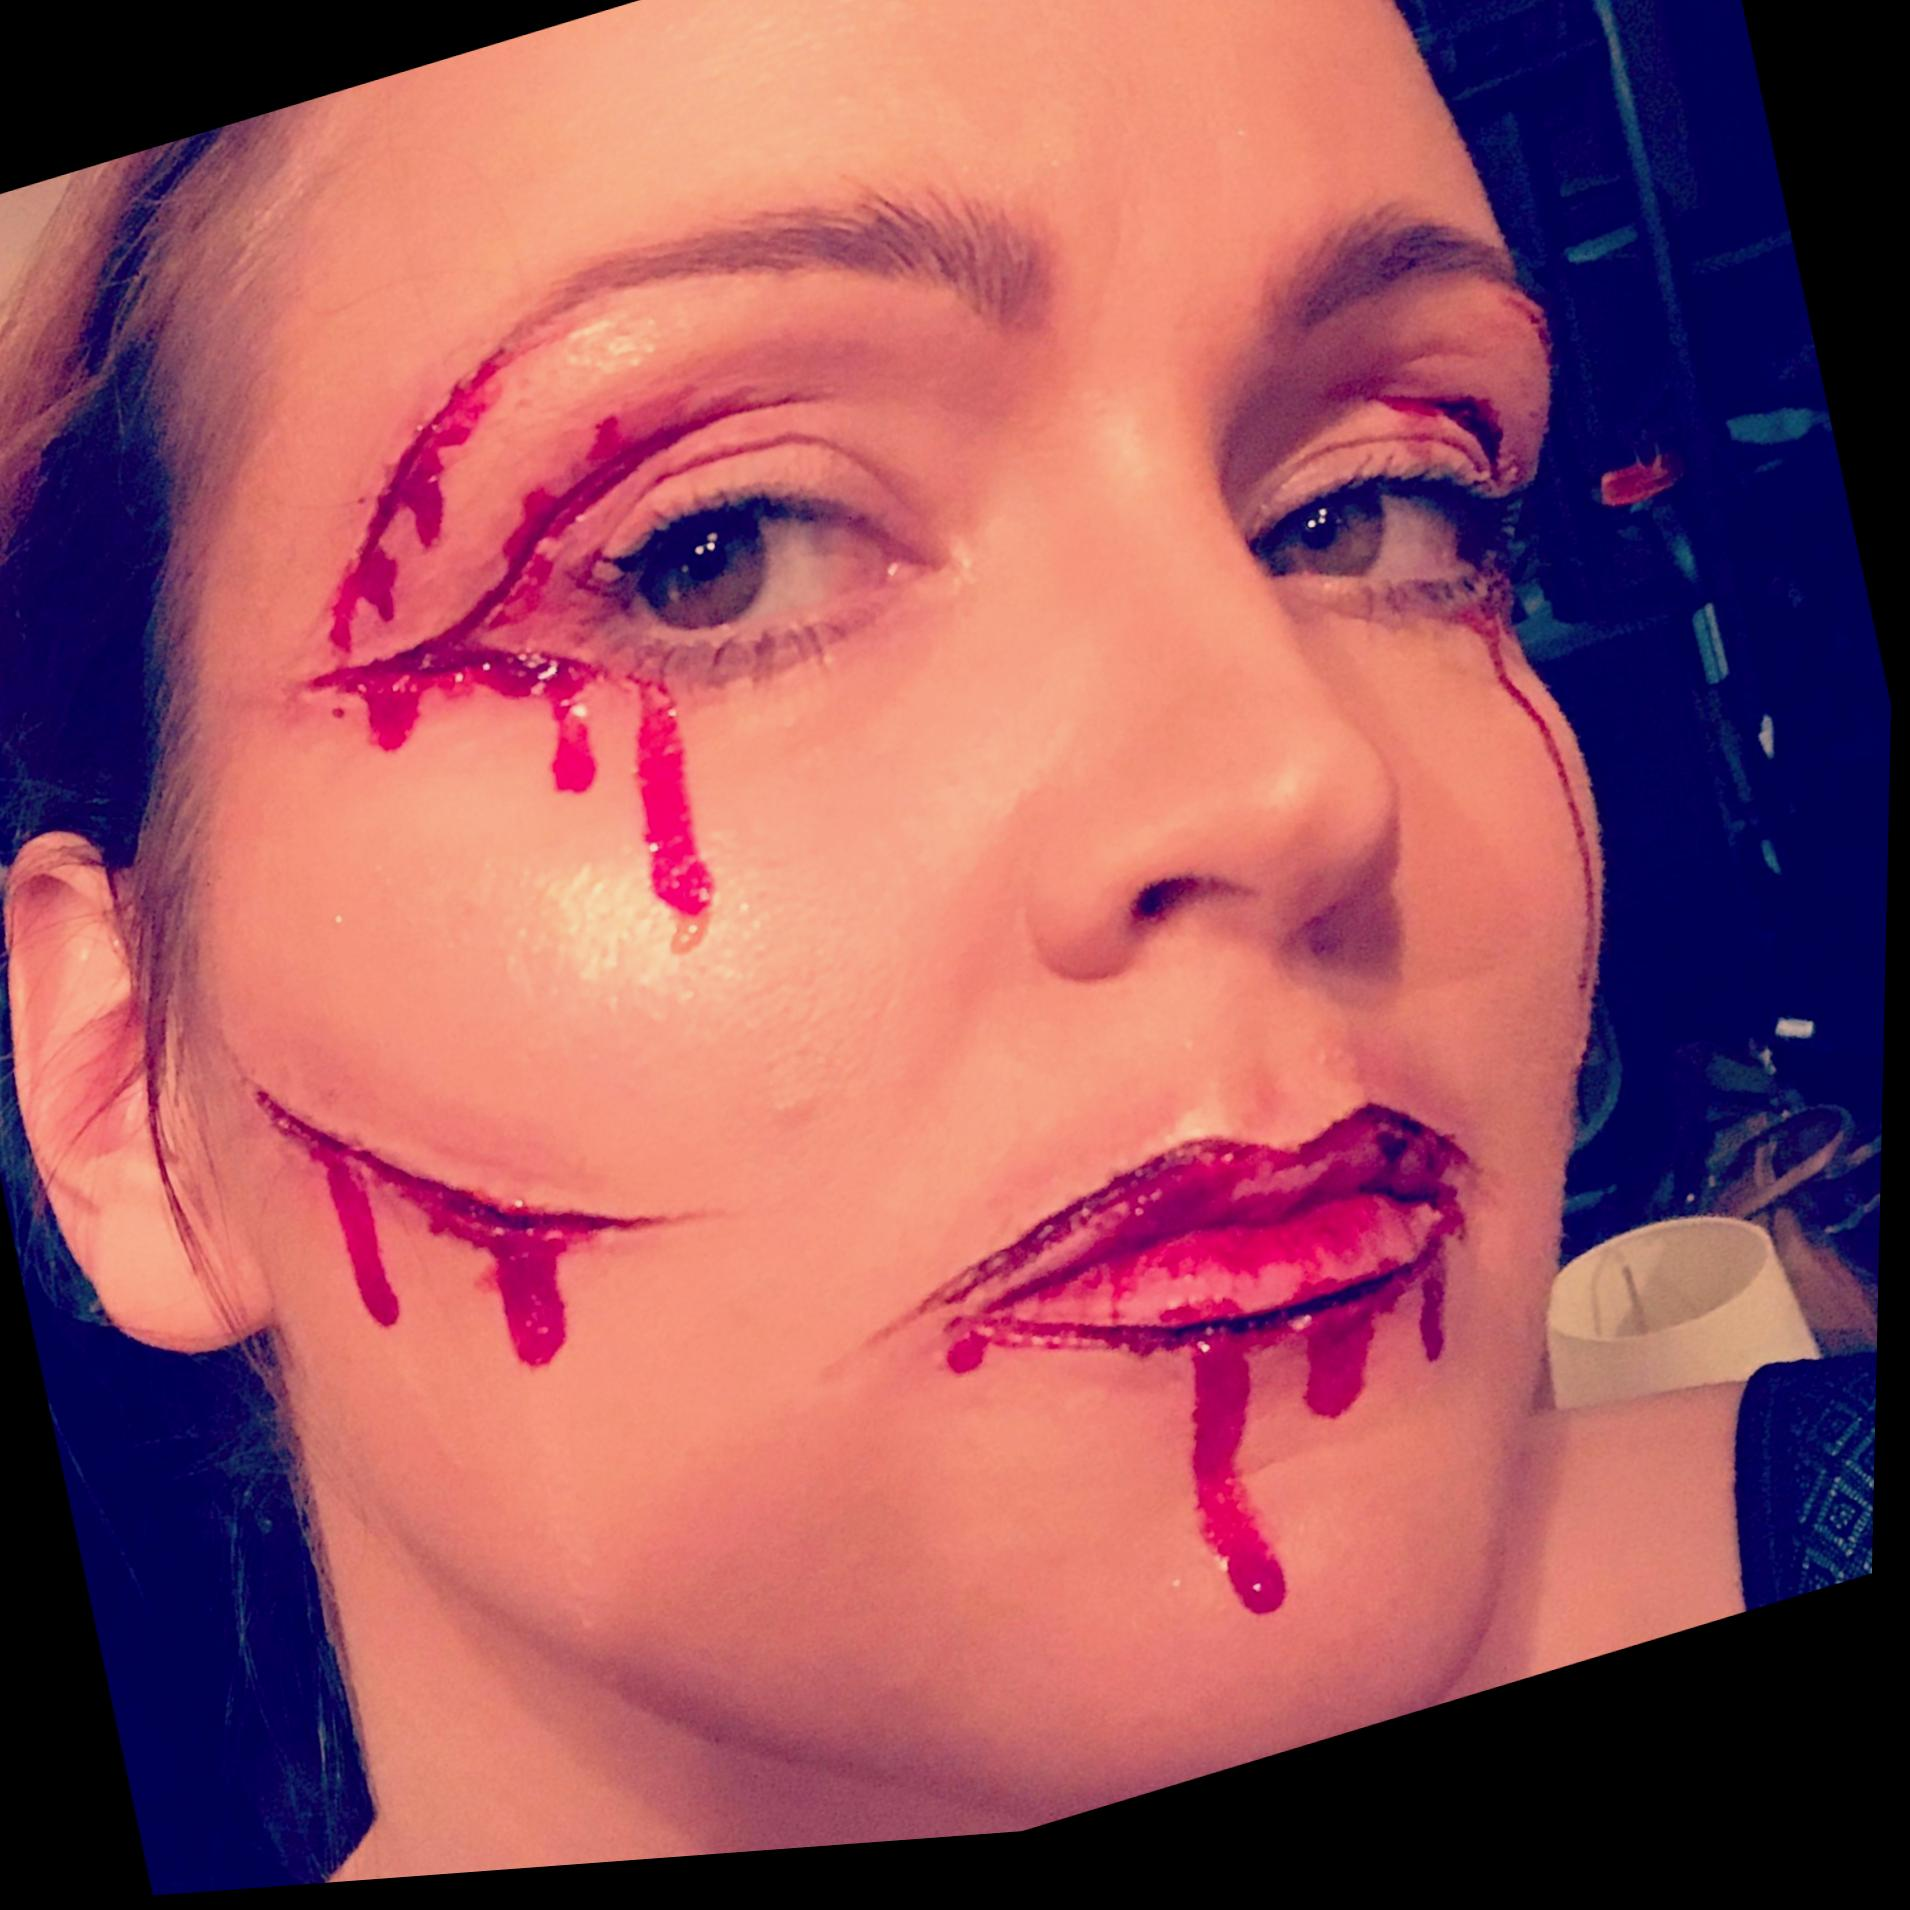Fire: (315, 360, 719, 958), (1342, 415, 1607, 997), (927, 1128, 1476, 1382), (259, 1097, 665, 1377), (1202, 1361, 1296, 1637), (1314, 1322, 1406, 1441)
